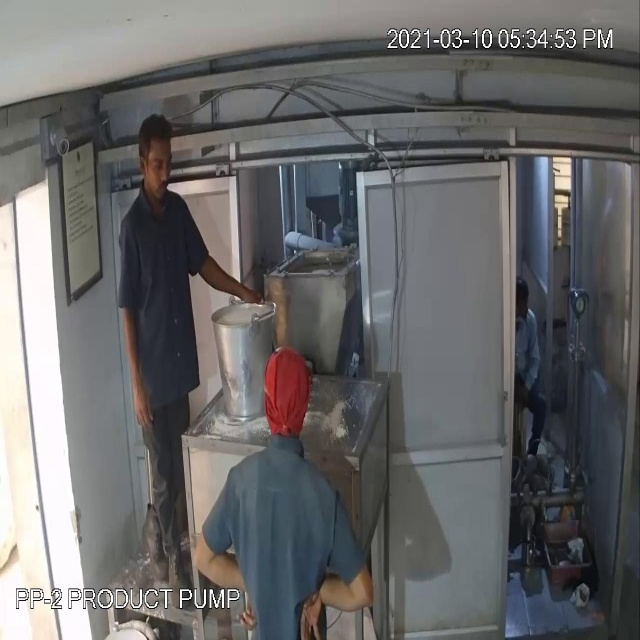Sin_guantes: (183, 223, 264, 326), (117, 288, 164, 448), (296, 552, 379, 640)
